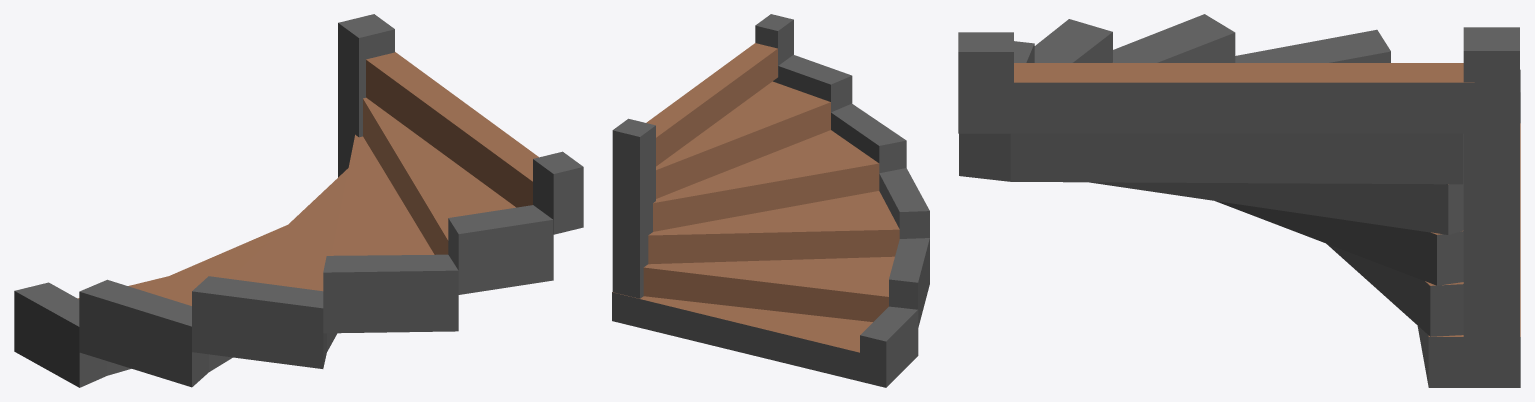
The model's file is road_corner_incline_left.fbx.
The picture shows the model from 3 angles, left to right: view 1: azimuth 30°, elevation 25°; view 2: azimuth 150°, elevation 25°; view 3: azimuth 270°, elevation 25°; orthographic projection. The views are drawn at different scales.
Parts seen in each view (by area): view 1: Cube.016; view 2: Cube.016; view 3: Cube.016.
Boxes of the visible parts, box(x1,y1,x2,y2) form: Cube.016: box(14, 14, 583, 387); Cube.016: box(612, 14, 929, 387); Cube.016: box(958, 14, 1520, 387).
Size of the model in its own units: 99.59 by 66.09 by 100.
